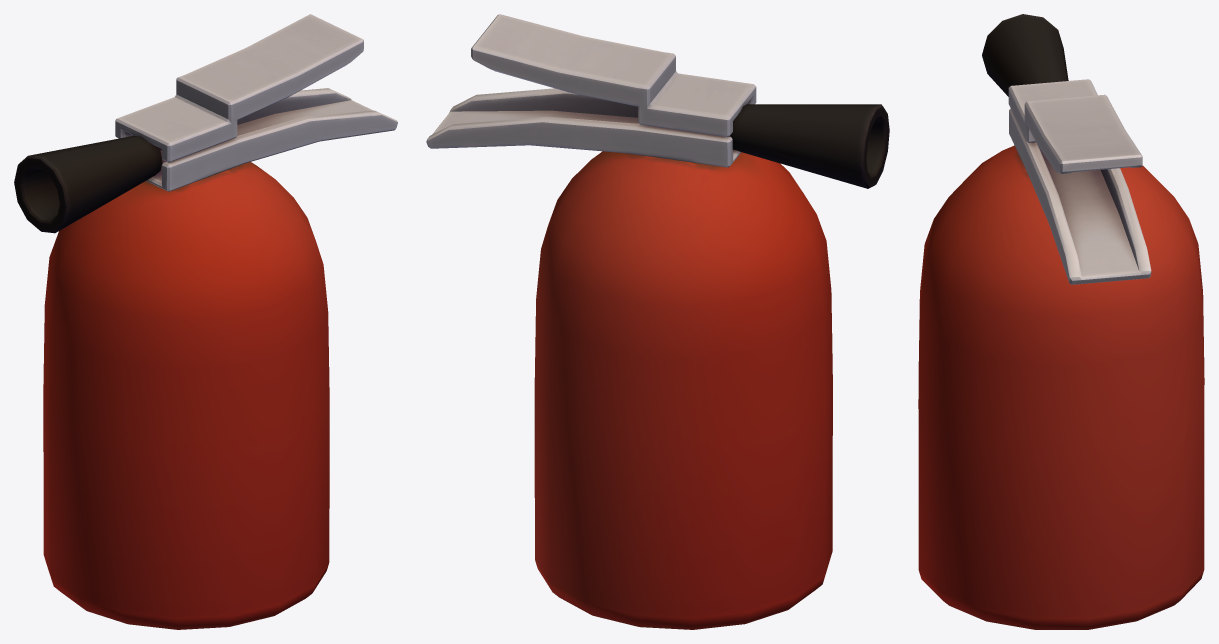
The model's file is FireExtinguisher.fbx.
3 views of the same model, side by side, from view 1: azimuth 30°, elevation 25°; view 2: azimuth 150°, elevation 25°; view 3: azimuth 270°, elevation 25° (orthographic). The views are drawn at different scales.
Visible parts, largest first — view 1: Extinguisher_Knob.001; view 2: Extinguisher_Knob.001; view 3: Extinguisher_Knob.001.
Part boxes in pixels (x1=…): Extinguisher_Knob.001: x1=14, y1=14, x2=397, y2=629; Extinguisher_Knob.001: x1=426, y1=14, x2=889, y2=629; Extinguisher_Knob.001: x1=918, y1=14, x2=1204, y2=629.
Bounding box in the file's own units: 123 × 150 × 77.17.
Materials: 1 (1 with a texture image).
